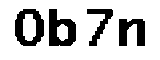0: (14, 4, 45, 50)
7: (85, 6, 114, 48)
b: (48, 5, 78, 48)
n: (117, 17, 148, 49)
